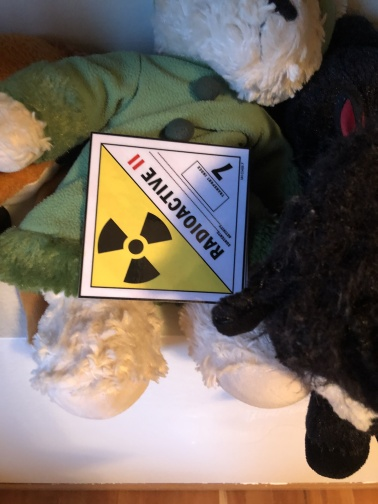Radioactive: (82, 133, 250, 304)
